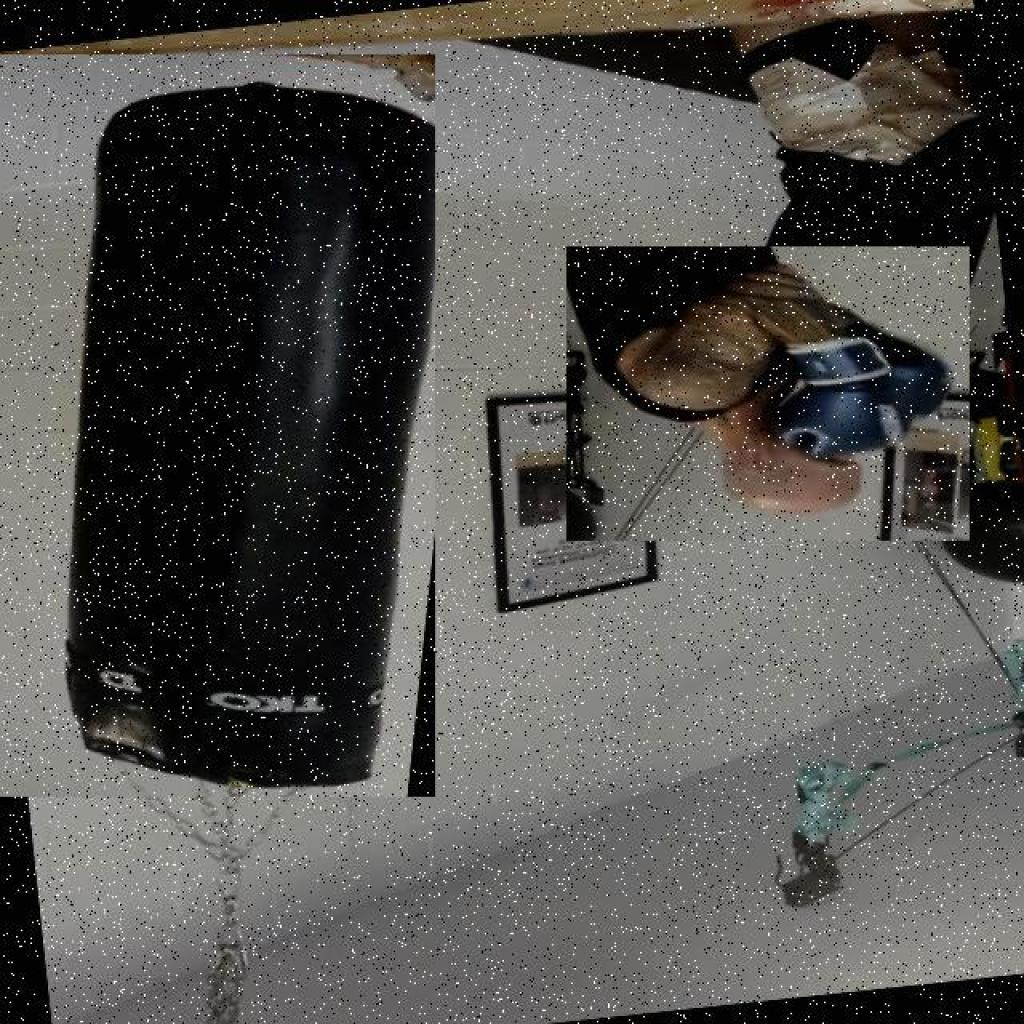bag: (0, 54, 434, 795)
no punch: (566, 246, 969, 540)
